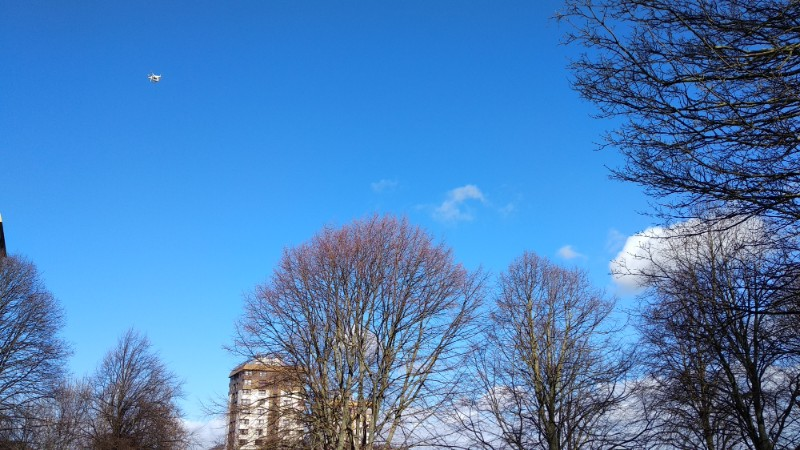drone: (146, 72, 164, 85)
